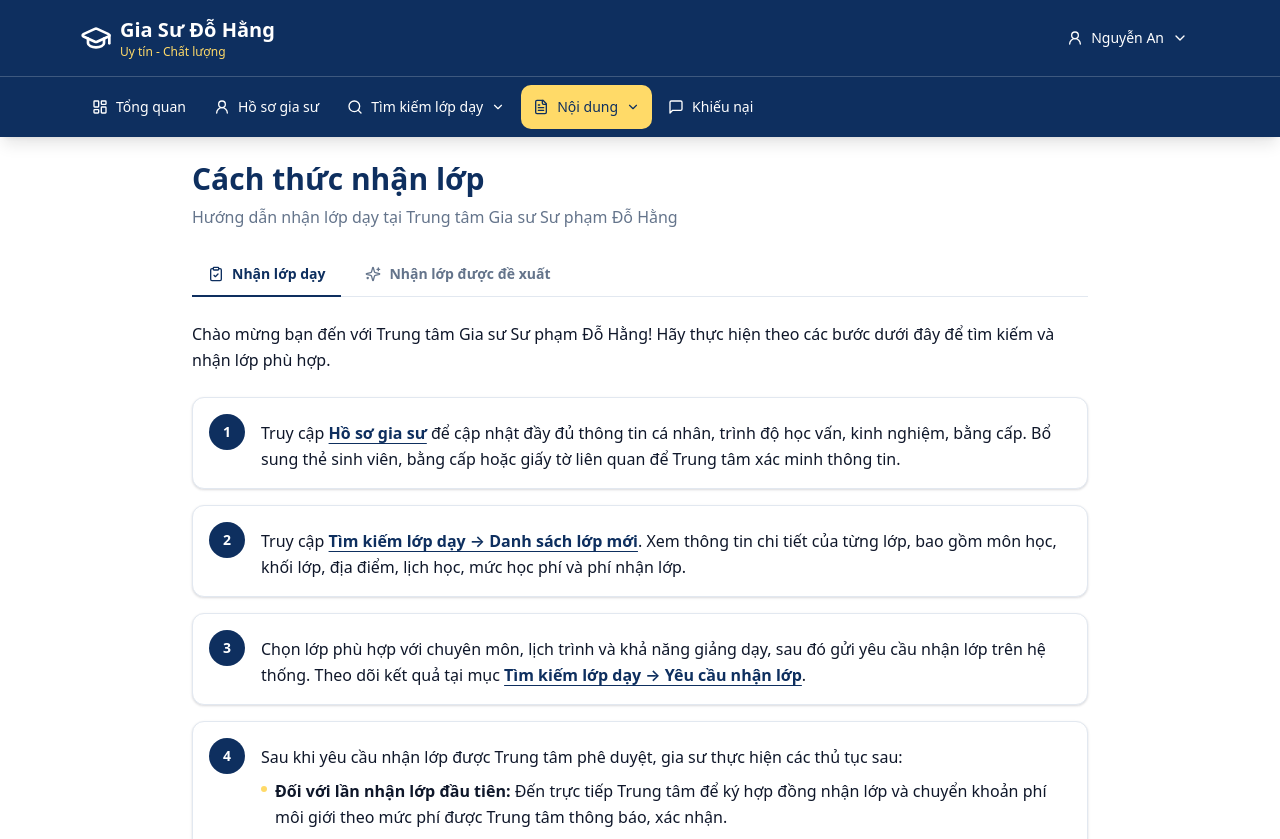
Test: Cách thức nhận lớp › shows the two guides in tabs with their steps, notes and links
Expected: the heading "Cách thức nhận lớp" is shown, 192,158 -> 484,199
Expected: the text "Chào mừng bạn đến với Trung tâm Gia sư Sư phạm Đỗ Hằng!" is shown, 192,323 -> 1054,371
Click the tab "Nhận lớp được đề xuất" at (458, 275), box 349,253 -> 566,297
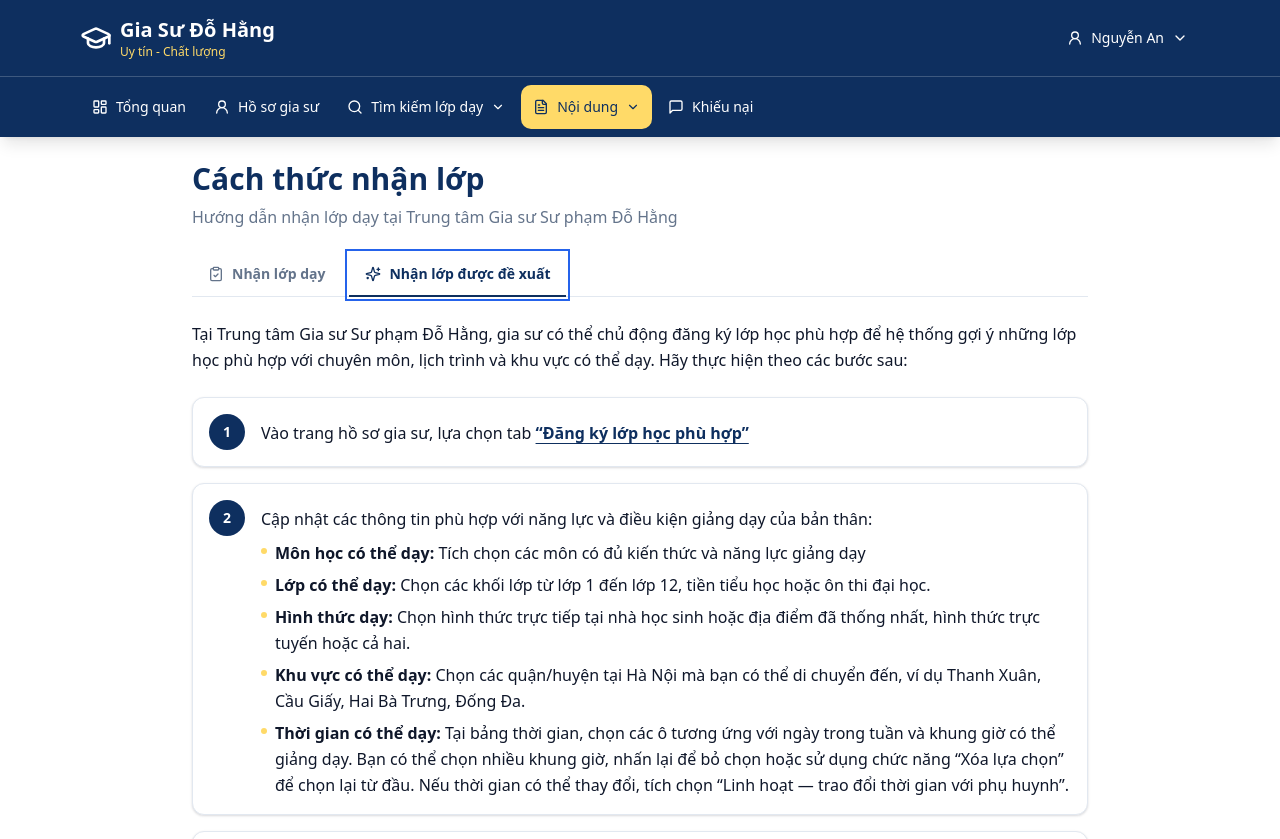
Result: the text "Môn học có thể dạy:" is shown at 275,542 -> 434,564
